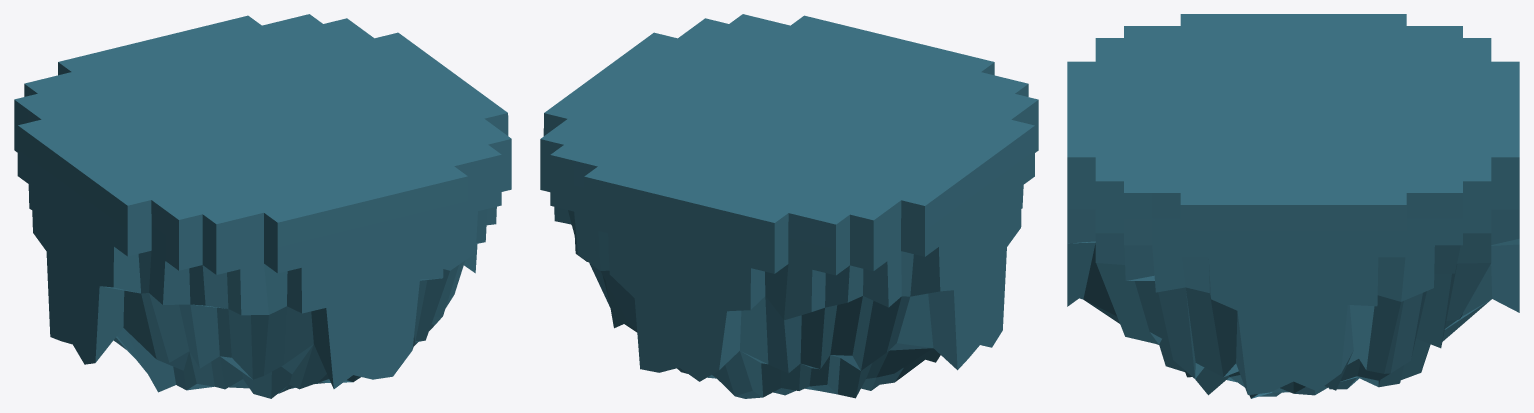
The model's file is FloatingIsland.fbx.
The picture shows the model from 3 angles, left to right: view 1: azimuth 30°, elevation 25°; view 2: azimuth 150°, elevation 25°; view 3: azimuth 270°, elevation 25°; orthographic projection. The views are drawn at different scales.
Parts seen in each view (by area): view 1: Cube; view 2: Cube; view 3: Cube.
Boxes of the visible parts, bbox=[...] form: Cube: bbox=[14, 14, 511, 398]; Cube: bbox=[540, 14, 1038, 398]; Cube: bbox=[1067, 14, 1519, 398].
Size of the model in its own units: 100 by 60.99 by 100.
1 material, 1 textured.
